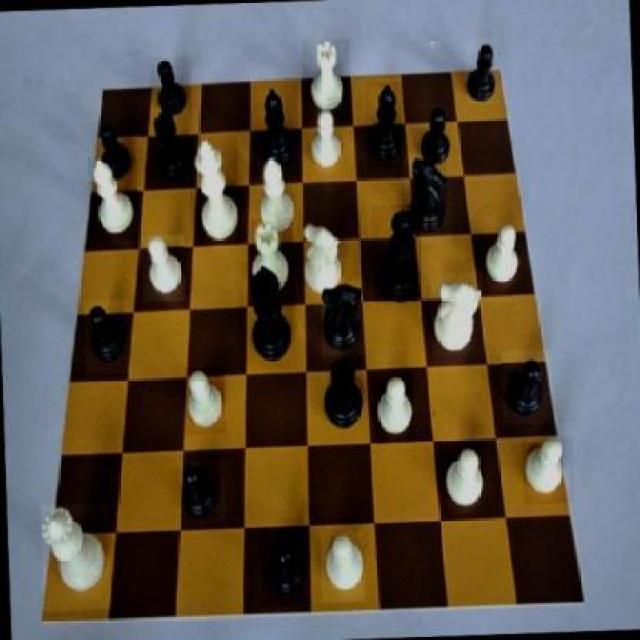bishop: (248, 85, 300, 177), (364, 82, 404, 172)
black-bishop: (235, 260, 298, 371)
black-king: (403, 152, 454, 245), (318, 280, 366, 363)
black-knight: (501, 350, 554, 426), (258, 526, 306, 606), (84, 300, 130, 375), (91, 120, 141, 188), (178, 460, 226, 527), (150, 55, 192, 123), (416, 103, 452, 174), (465, 37, 500, 105)
black-pawn: (371, 204, 421, 304)
black-queen: (318, 356, 368, 438), (144, 106, 192, 189)
black-rook: (88, 157, 140, 243), (251, 157, 298, 238)
white-bishop: (188, 134, 240, 247)
white-king: (431, 272, 486, 366), (297, 215, 349, 302)
white-knight: (440, 444, 489, 518), (522, 437, 574, 504), (480, 224, 527, 294), (320, 532, 365, 603), (142, 235, 186, 302), (307, 108, 348, 178), (183, 368, 225, 435), (374, 374, 414, 444)
white-pawn: (40, 503, 111, 611)
white-queen: (250, 217, 296, 310), (302, 38, 352, 121)
